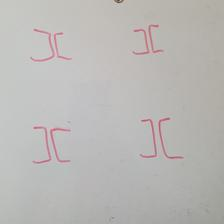blunt-restriction-site: (138, 116, 185, 160), (30, 125, 71, 164), (29, 28, 72, 62), (130, 24, 163, 55)
